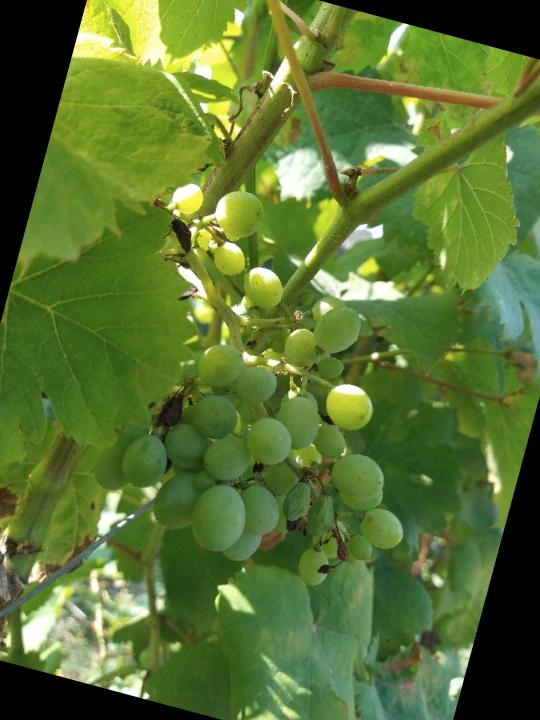grape: (81, 169, 481, 611)
